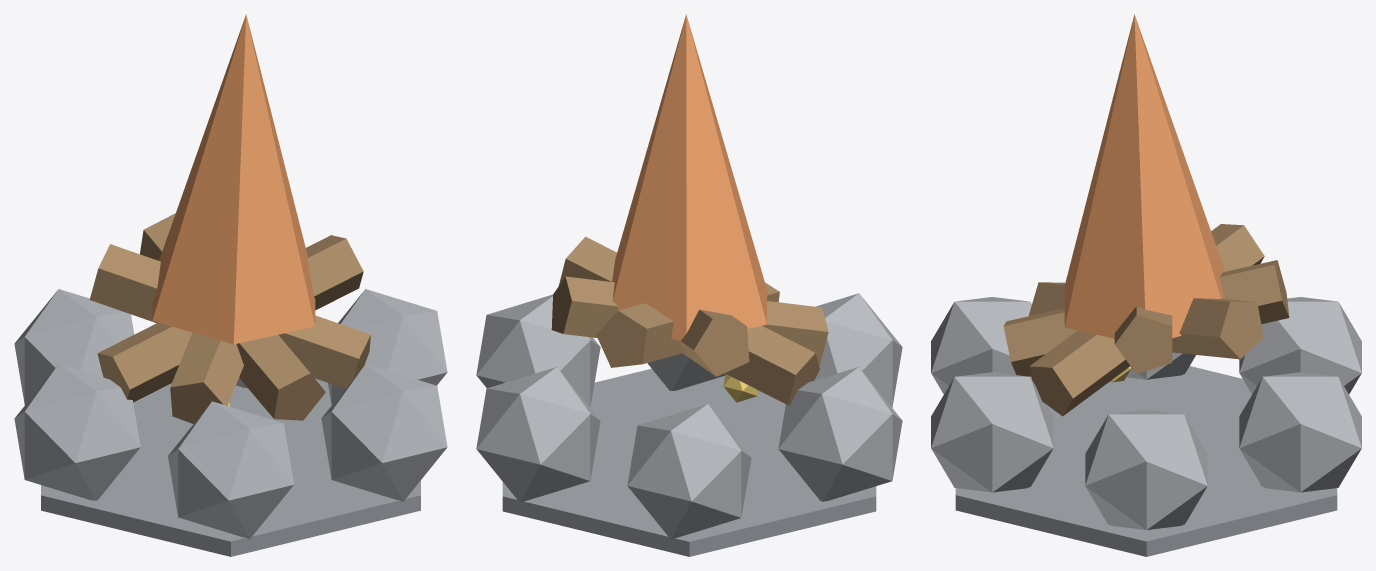
The model's file is animprop_campfire_03.glb.
The picture shows the model from 3 angles, left to right: view 1: azimuth 30°, elevation 25°; view 2: azimuth 150°, elevation 25°; view 3: azimuth 270°, elevation 25°; orthographic projection. The views are drawn at different scales.
Parts seen in each view (by area): view 1: animprop; view 2: animprop; view 3: animprop.
Boxes of the visible parts, <box> form: animprop: <box>14,14,447,556</box>; animprop: <box>476,14,902,556</box>; animprop: <box>931,14,1361,556</box>.
Bounding box in the file's own units: 1.13 × 1.18 × 1.02.
